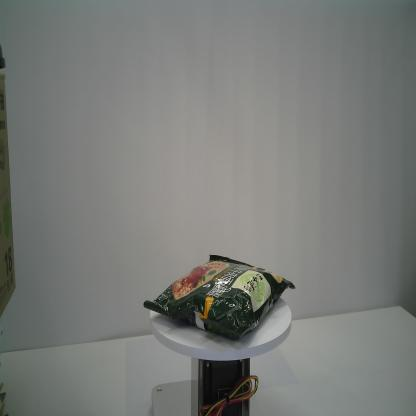Instant Noodles: (142, 252, 297, 343)
